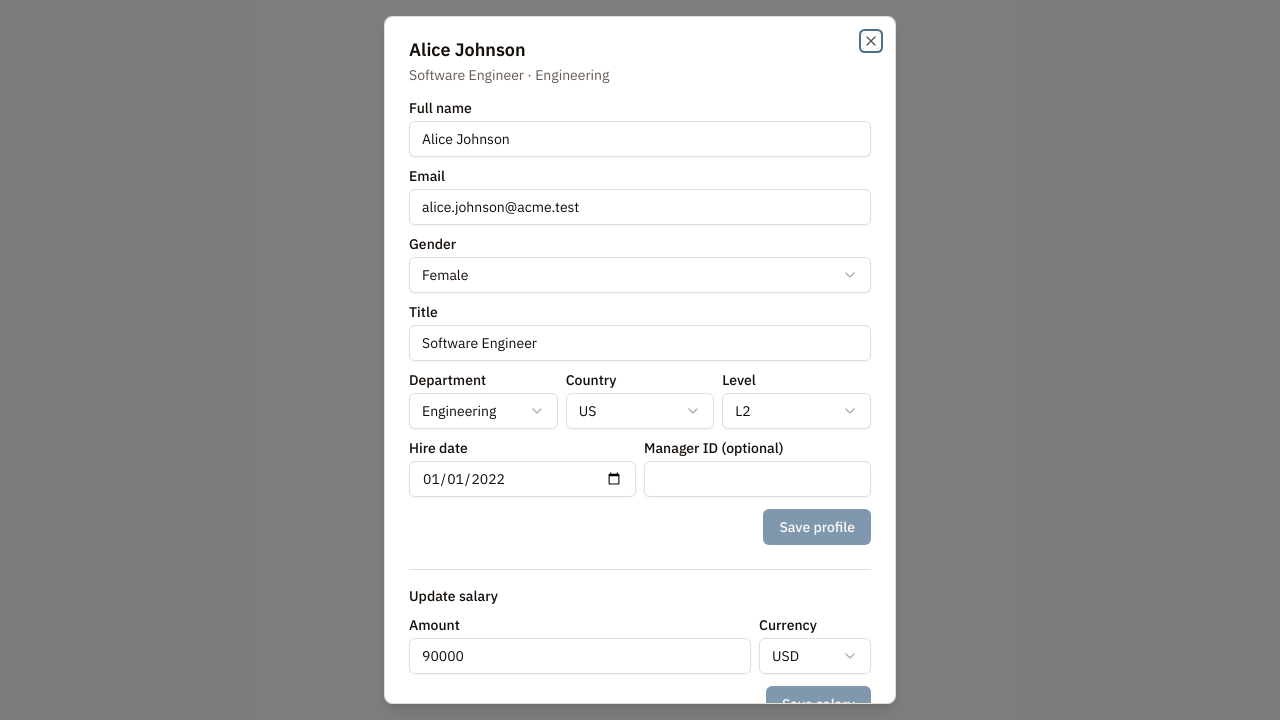
Test: EmployeeDetailModal › submits valid profile changes, then reports the update
Expected: the heading "Alice Johnson" is shown, [409, 38, 526, 61]
Replace the text in the field labelled "Title" with "Senior Software Engineer" at (640, 343), box [409, 325, 871, 361]
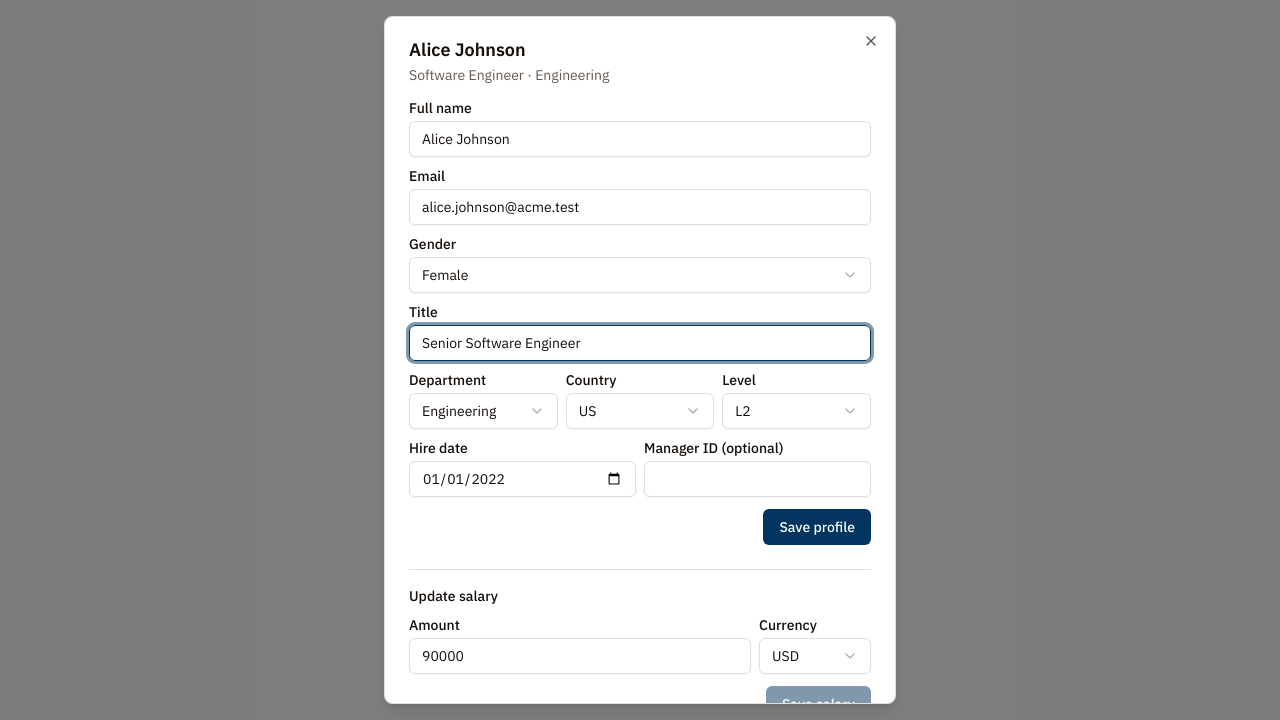
Click the button "Save profile".
click(817, 527)  # box [763, 509, 871, 545]
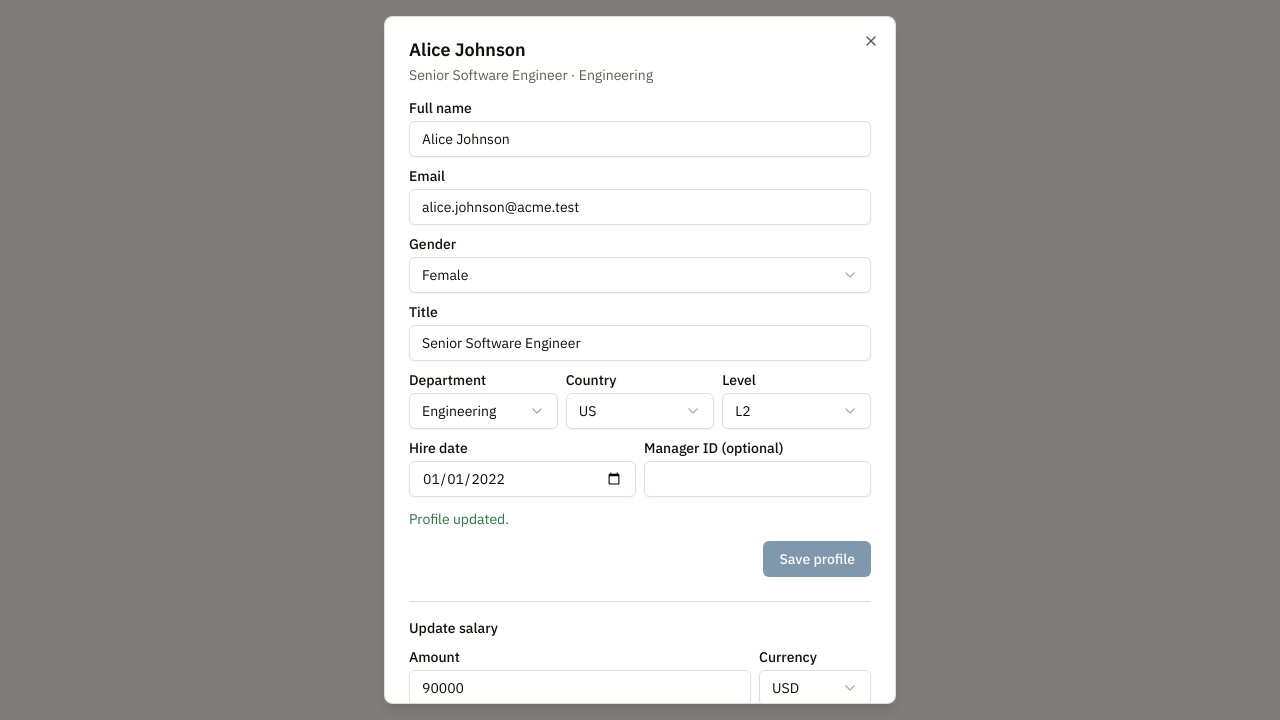
Expected: the text "Profile updated." is shown, [409, 510, 509, 528]
